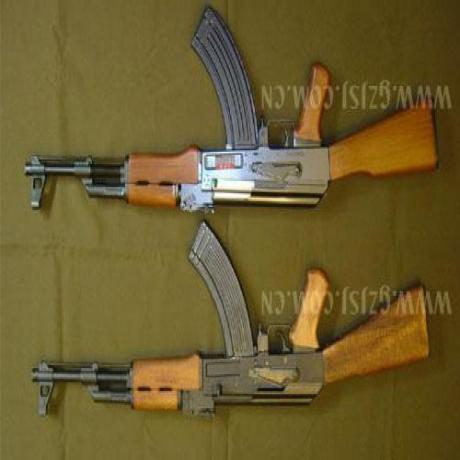weapon: (22, 4, 442, 212), (32, 219, 433, 418)
